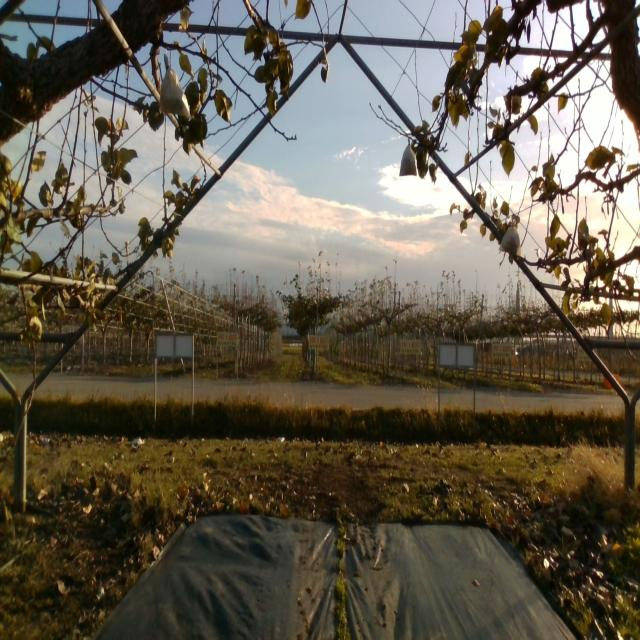pearbags: (157, 55, 193, 122), (499, 222, 522, 257), (399, 137, 418, 176)
